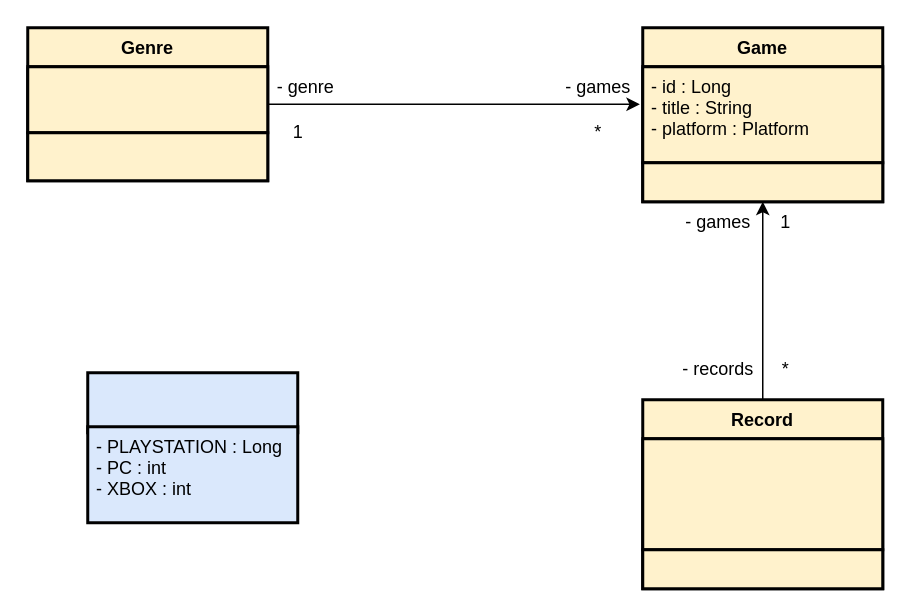
The diagram is 909 pixels wide and 615 high, and some of its shapes have lost their labels. Each missing label, with the centre of its shape:
"- id : Long - name : String" goes at (147,99).
"- id : Long - name : String - age : Integer - moment : Instant" goes at (762,493).
"«enum» Platform" goes at (192,402).
